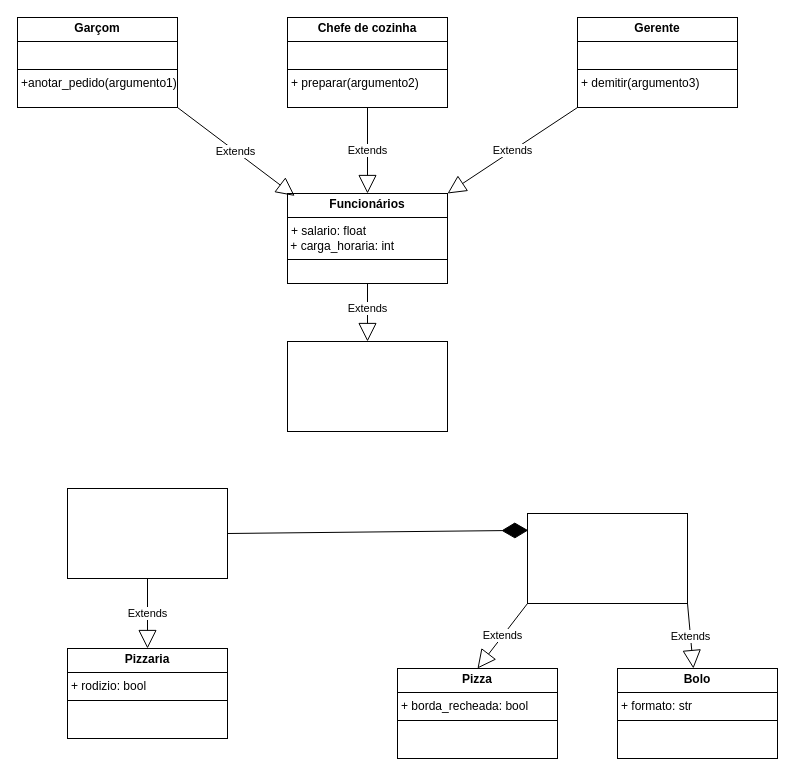
The diagram is 795 pixels wide and 776 high, and some of its shapes have lost their labels. Here are the shapes that lost their labels. From the top down, the centre of each, then its label:
At pixel 367 386: "Pessoa + nome:str + idade:int".
At pixel 147 533: "Restaurante + nome:str + endereco: str +preco: float".
At pixel 607 558: "Iguaria(comida) + nome:str + preco: float".
